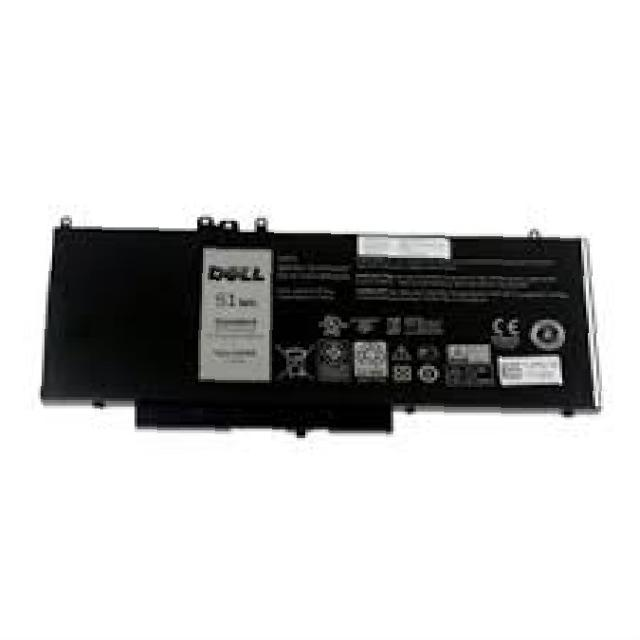Battery: (15, 185, 621, 468)
